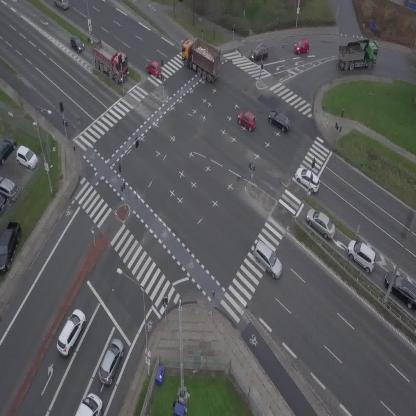car: (51, 307, 90, 358), (94, 336, 128, 387), (247, 239, 289, 280), (342, 236, 383, 275), (301, 205, 341, 242), (292, 164, 325, 195), (266, 108, 294, 134), (234, 108, 260, 132), (65, 33, 86, 55), (143, 58, 165, 79), (250, 45, 269, 60), (294, 39, 309, 54), (53, 0, 68, 10)
lorry: (172, 33, 229, 84), (83, 35, 137, 86), (337, 38, 381, 71), (75, 393, 102, 416)
